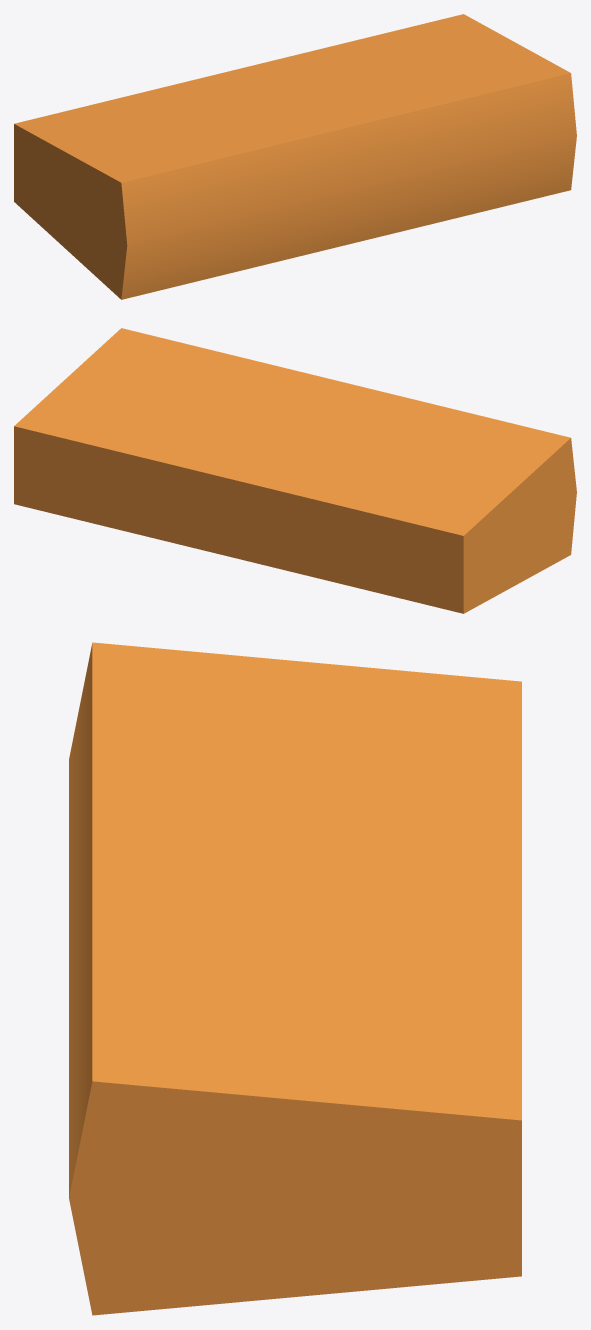
The model's file is carrot.fbx.
The picture shows the model from 3 angles, top to bottom: view 1: azimuth 30°, elevation 25°; view 2: azimuth 150°, elevation 25°; view 3: azimuth 270°, elevation 25°; orthographic projection. The views are drawn at different scales.
Parts seen in each view (by area): view 1: Cube; view 2: Cube; view 3: Cube.
Boxes of the visible parts, bbox=[...] form: Cube: bbox=[14, 14, 576, 299]; Cube: bbox=[14, 328, 576, 613]; Cube: bbox=[69, 642, 521, 1315].
Size of the model in its own units: 200 by 49.76 by 87.25.
